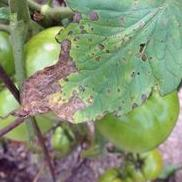Tomato leaf bacterial spot: (0, 0, 182, 120)
